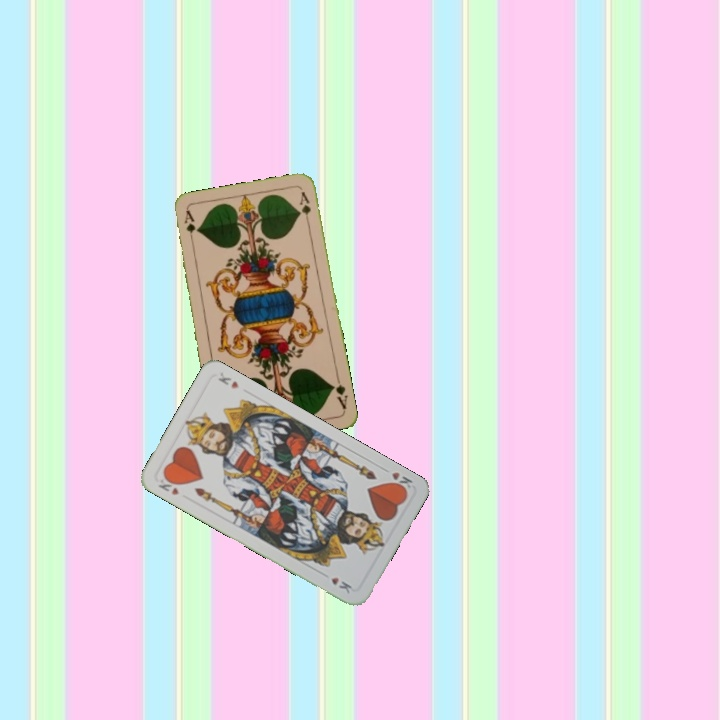GA: (328, 372, 350, 412), (180, 207, 197, 248)
HK: (378, 463, 415, 495), (154, 472, 182, 498)
